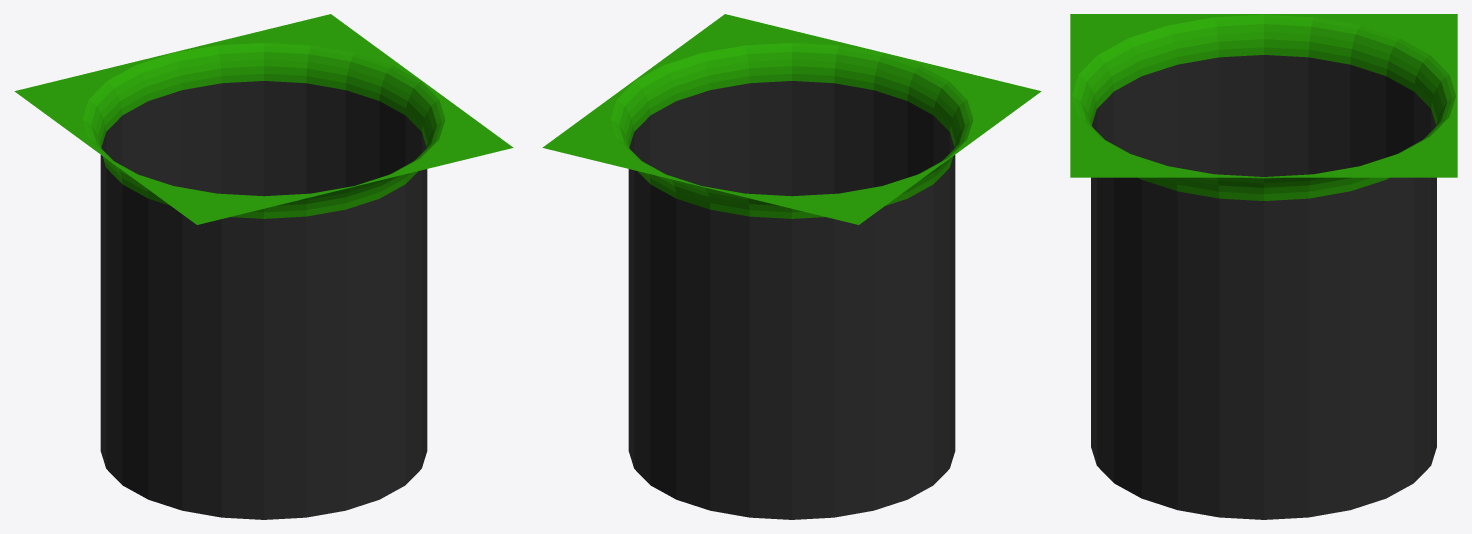
The model's file is golfHoleLarge.fbx.
3 renders of one model, left to right at view 1: azimuth 30°, elevation 25°; view 2: azimuth 150°, elevation 25°; view 3: azimuth 270°, elevation 25°, orthographic. The views are drawn at different scales.
Parts seen in each view (by area): view 1: golfHoleLarge; view 2: golfHoleLarge; view 3: golfHoleLarge.
Boxes of the visible parts, bbox=[...] form: golfHoleLarge: bbox=[14, 14, 513, 519]; golfHoleLarge: bbox=[542, 14, 1041, 519]; golfHoleLarge: bbox=[1070, 14, 1457, 519].
Bounding box in the file's own units: 100 × 100 × 100.
